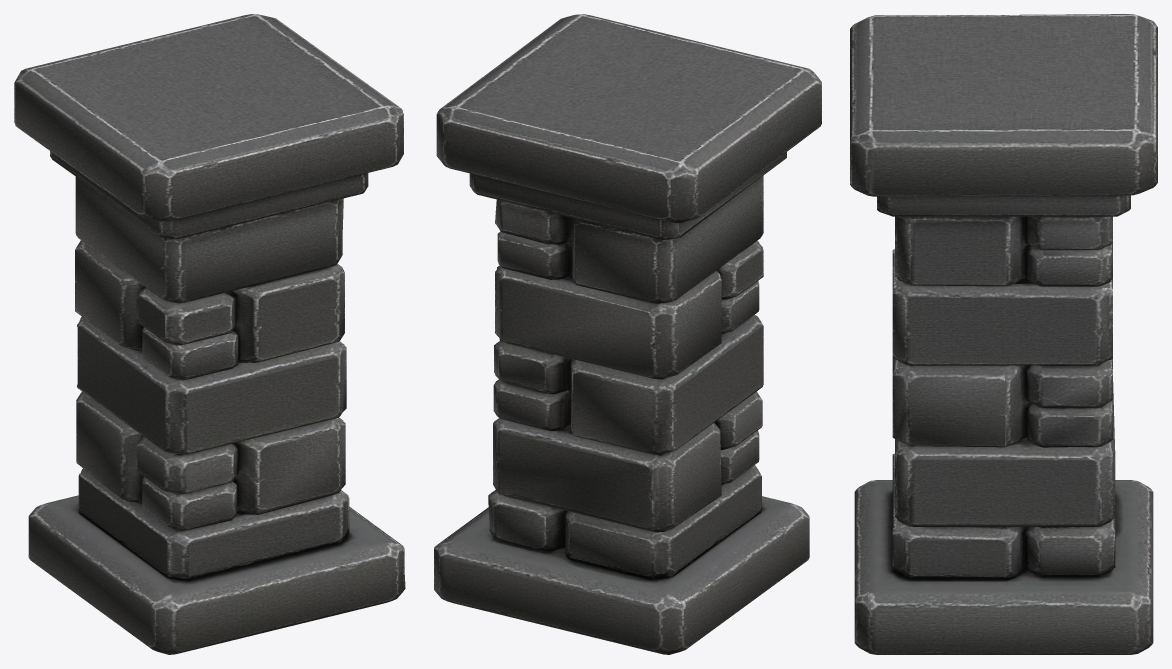
The model's file is Column.fbx.
The picture shows the model from 3 angles, left to right: view 1: azimuth 30°, elevation 25°; view 2: azimuth 150°, elevation 25°; view 3: azimuth 270°, elevation 25°; orthographic projection. The views are drawn at different scales.
Visible parts, largest first — view 1: Column; view 2: Column; view 3: Column.
Boxes of the visible parts, x1,y1,x2,y2 form: Column: (14,14,405,654); Column: (434,14,821,654); Column: (850,14,1157,654).
Size of the model in its own units: 167 by 298 by 160.
1 material, 1 textured.
